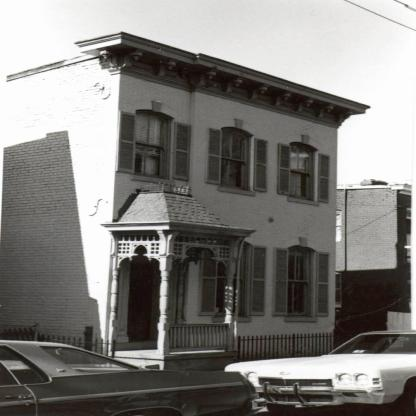Car: (0, 341, 258, 415), (240, 338, 408, 408)
